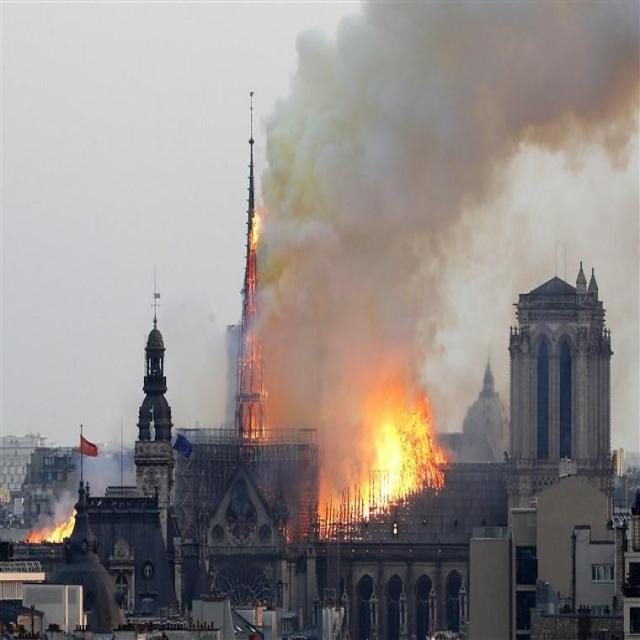Fire: (315, 371, 448, 524), (238, 196, 271, 440), (23, 504, 82, 544)
